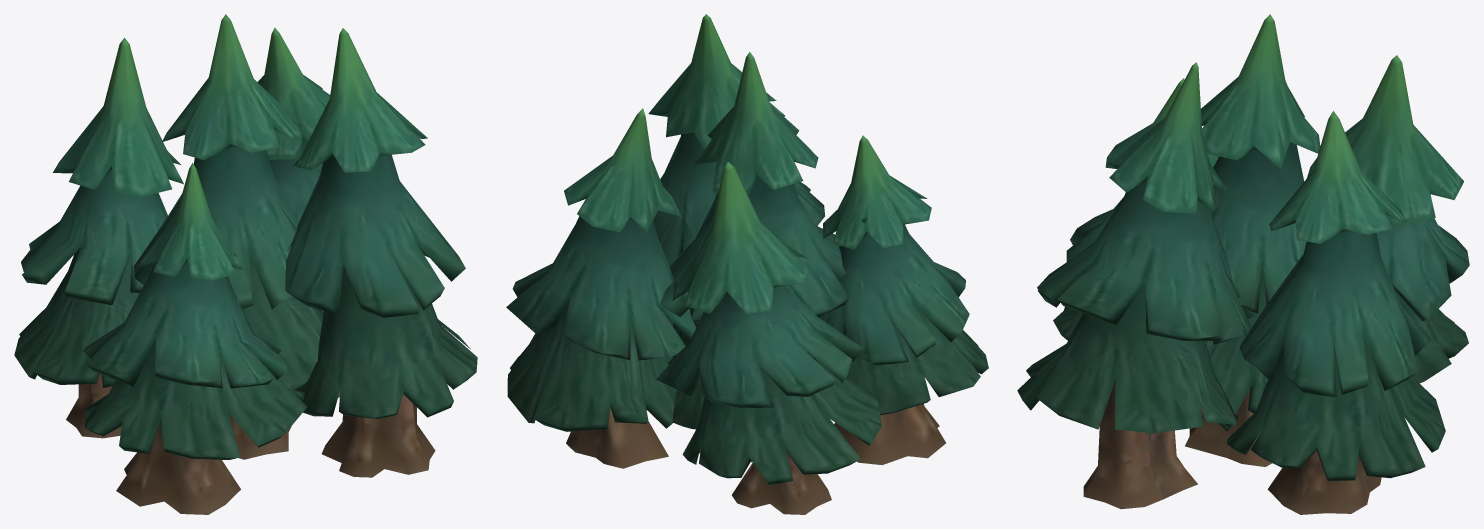
Rendered from Tree_cluster.glb.
3 views of the same model, side by side, from view 1: azimuth 30°, elevation 25°; view 2: azimuth 150°, elevation 25°; view 3: azimuth 270°, elevation 25° (orthographic). The views are drawn at different scales.
Visible parts, largest first — view 1: Trees_Dense; view 2: Trees_Dense; view 3: Trees_Dense.
Part boxes in pixels (x1=…): Trees_Dense: x1=14, y1=14, x2=477, y2=514; Trees_Dense: x1=506, y1=14, x2=988, y2=514; Trees_Dense: x1=1017, y1=14, x2=1469, y2=514.
Bounding box in the file's own units: 5.87 × 5.87 × 5.64.
Materials: 1 (1 with a texture image).
